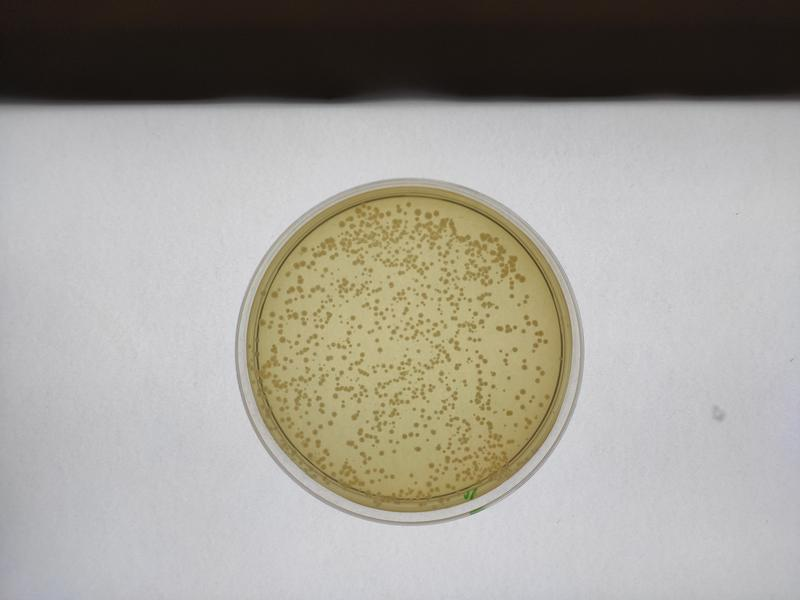colony: (508, 343, 520, 355), (425, 458, 436, 471), (328, 409, 340, 420), (410, 444, 422, 454), (374, 347, 384, 355)
